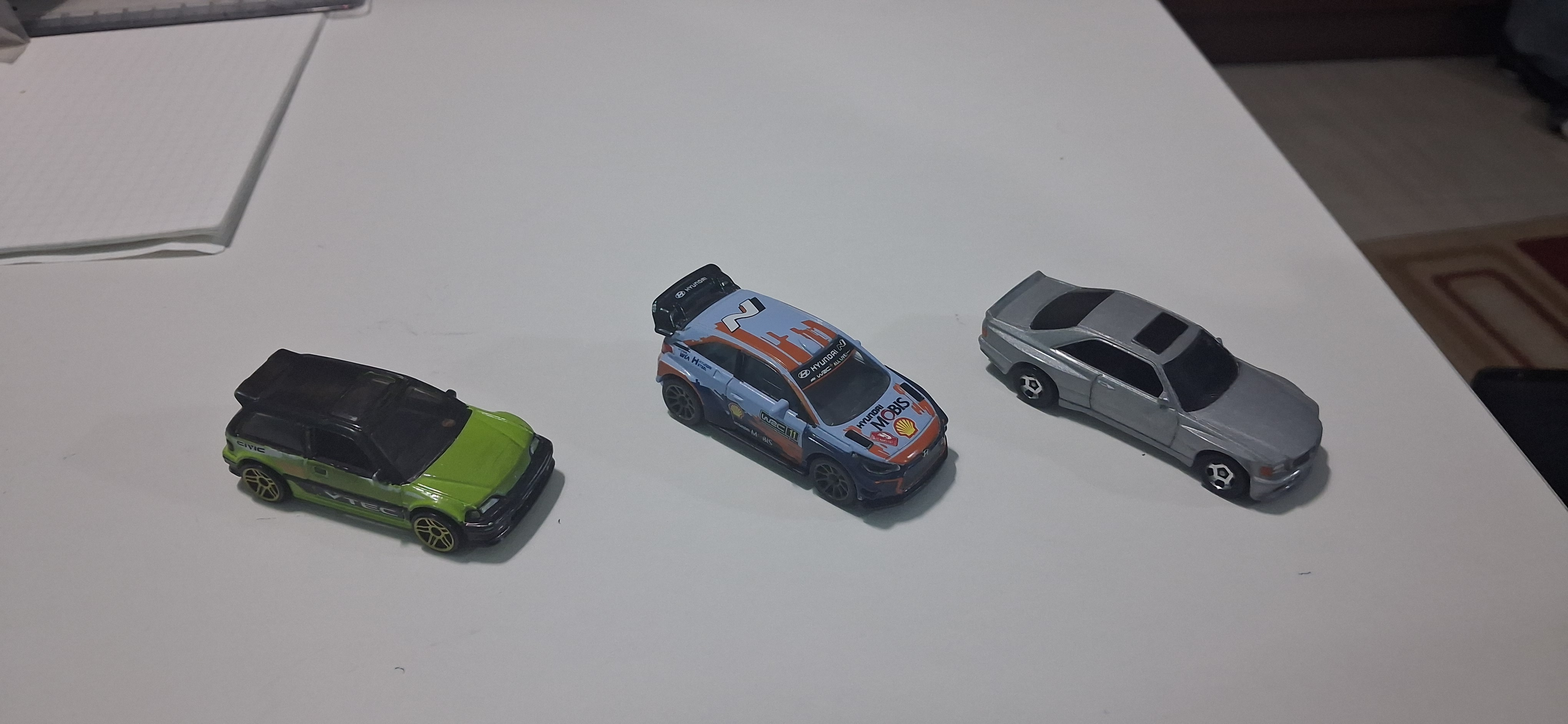Honda_Civic: (186, 303, 572, 582)
Hyundai_I20_WRC: (610, 214, 959, 529)
Mercedes_Benz_560_SEC_AMG: (976, 234, 1364, 533)
